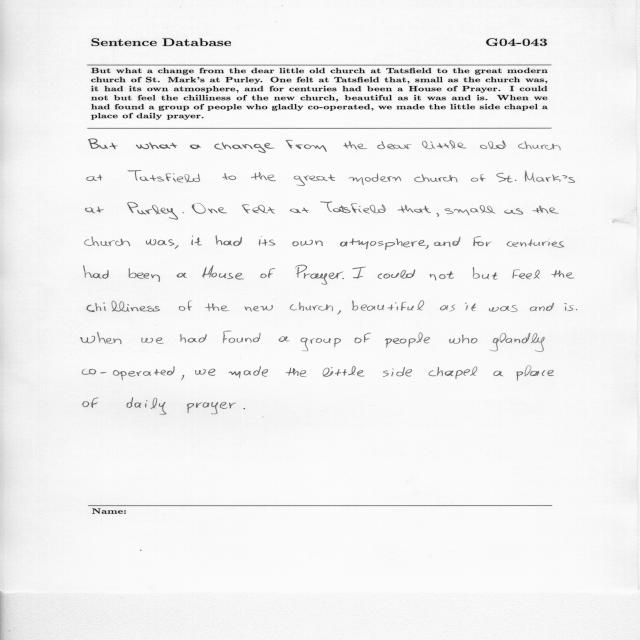word: (83, 367, 175, 380), (340, 238, 426, 250), (490, 333, 544, 352), (296, 265, 344, 285), (127, 202, 178, 220), (128, 171, 200, 183), (87, 301, 160, 312), (320, 202, 386, 213), (352, 301, 424, 311), (127, 398, 167, 415), (385, 333, 430, 348), (215, 142, 275, 153), (525, 170, 575, 183), (202, 265, 244, 280), (349, 173, 401, 185), (429, 367, 478, 379), (187, 402, 236, 414), (516, 366, 554, 381), (301, 338, 341, 351), (507, 239, 564, 248), (445, 206, 496, 216), (286, 140, 327, 152), (294, 174, 335, 186), (81, 332, 121, 344), (229, 366, 268, 378), (323, 366, 365, 377), (223, 331, 261, 343), (85, 237, 130, 247), (129, 268, 160, 282), (518, 141, 560, 151), (422, 140, 466, 149), (290, 302, 333, 311), (192, 203, 227, 214), (378, 270, 415, 280), (84, 265, 109, 279), (415, 174, 458, 182), (146, 239, 179, 249), (473, 267, 498, 280), (242, 205, 275, 214), (434, 236, 461, 247), (136, 142, 178, 149), (89, 139, 118, 149), (383, 367, 412, 377), (377, 141, 412, 149), (512, 270, 540, 280), (215, 236, 242, 246), (398, 205, 431, 213), (449, 335, 478, 344), (180, 334, 207, 343), (480, 140, 506, 149), (251, 172, 276, 181), (430, 272, 454, 281), (286, 367, 307, 377), (533, 206, 559, 214), (551, 270, 574, 279), (489, 305, 518, 312), (497, 173, 517, 183), (245, 305, 273, 312), (343, 141, 367, 149), (205, 304, 229, 312), (530, 303, 554, 311), (474, 236, 493, 246), (292, 240, 323, 246), (83, 397, 99, 408), (259, 236, 276, 246), (354, 333, 371, 343), (352, 267, 366, 279), (141, 337, 164, 344), (260, 269, 275, 279), (195, 369, 215, 376), (504, 208, 523, 215), (179, 301, 192, 311), (85, 207, 104, 213), (290, 208, 309, 214), (471, 174, 485, 182), (440, 305, 455, 312), (223, 173, 237, 180), (87, 175, 102, 181), (465, 303, 476, 311), (564, 303, 574, 311), (194, 237, 202, 246), (279, 336, 290, 342), (177, 273, 187, 278), (494, 371, 504, 376), (190, 145, 201, 149), (337, 310, 341, 315), (191, 236, 193, 245), (425, 245, 429, 249), (181, 375, 184, 380), (436, 213, 439, 217), (182, 213, 184, 214), (342, 278, 344, 279), (243, 408, 245, 409), (576, 309, 577, 310)
